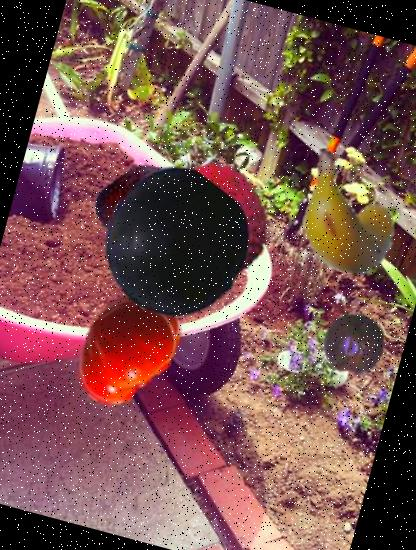Banana: (268, 132, 416, 292)
Grape: (88, 156, 264, 332)
Lychee: (138, 145, 287, 294)
Passion: (313, 306, 393, 386)
Salak: (87, 151, 194, 258)
Tomato: (53, 272, 204, 424)
